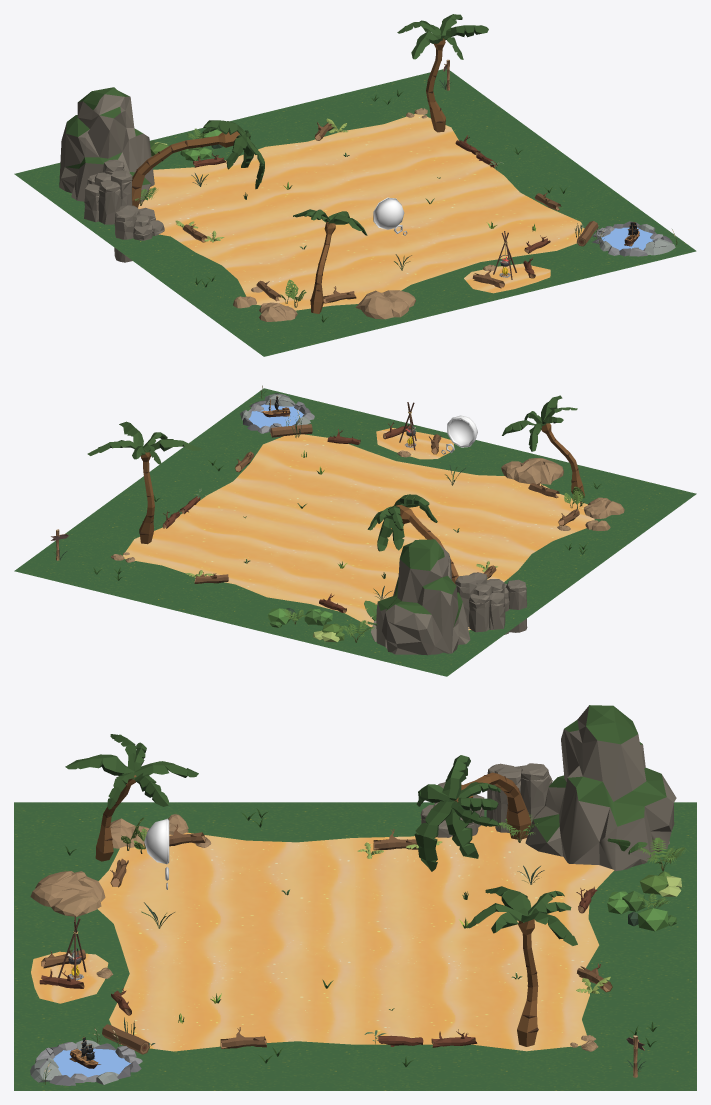
File: Environment.glb
The picture shows the model from 3 angles, top to bottom: view 1: azimuth 30°, elevation 25°; view 2: azimuth 150°, elevation 25°; view 3: azimuth 270°, elevation 25°; orthographic projection. The views are drawn at different scales.
Parts seen in each view (by area): view 1: FloorBaseSand_01, Gras, RockBig_07, PalmTree_01, PalmTree_02, RockPillars_01, Pond_01, RockPillars_01.001, PalmTree_02.001, SandPatchBig_01, Think Bubble, SandPatchMedium_01; view 2: FloorBaseSand_01, Gras, RockBig_07, RockPillars_01, PalmTree_02, PalmTree_01, Pond_01, PalmTree_02.001, SandPatchBig_01, Think Bubble, RockPillars_01.001, SandPatchMedium_01; view 3: FloorBaseSand_01, Gras, RockBig_07, PalmTree_01, PalmTree_02, PalmTree_02.001, Pond_01, SandPatchBig_01, RockPillars_01, Think Bubble, Bush_02, Bush_03 (+4 smaller).
Boxes of the visible parts, x1,y1,x2,y2 form: FloorBaseSand_01: [138, 113, 584, 310]; Gras: [14, 68, 696, 356]; RockBig_07: [59, 87, 154, 203]; PalmTree_01: [132, 120, 264, 207]; PalmTree_02: [397, 14, 488, 132]; RockPillars_01: [84, 159, 132, 224]; Pond_01: [592, 221, 675, 256]; RockPillars_01.001: [114, 205, 164, 262]; PalmTree_02.001: [293, 209, 367, 313]; SandPatchBig_01: [355, 290, 415, 319]; Think Bubble: [373, 197, 407, 235]; SandPatchMedium_01: [259, 302, 297, 321]; FloorBaseSand_01: [123, 428, 594, 630]; Gras: [14, 388, 696, 676]; RockBig_07: [371, 539, 470, 655]; RockPillars_01: [455, 572, 505, 632]; PalmTree_02: [87, 421, 202, 544]; PalmTree_01: [367, 494, 458, 584]; Pond_01: [240, 393, 314, 433]; PalmTree_02.001: [502, 395, 584, 496]; SandPatchBig_01: [501, 458, 563, 484]; Think Bubble: [441, 415, 477, 454]; RockPillars_01.001: [504, 579, 527, 634]; SandPatchMedium_01: [584, 497, 624, 518]; FloorBaseSand_01: [31, 825, 614, 1051]; Gras: [14, 802, 696, 1090]; RockBig_07: [525, 705, 676, 871]; PalmTree_01: [414, 755, 531, 871]; PalmTree_02: [467, 886, 577, 1046]; PalmTree_02.001: [65, 734, 198, 861]; Pond_01: [30, 1040, 142, 1085]; SandPatchBig_01: [30, 871, 105, 916]; RockPillars_01: [486, 763, 552, 832]; Think Bubble: [144, 818, 169, 889]; Bush_02: [639, 871, 681, 896]; Bush_03: [628, 907, 676, 931].
Size of what is drawn, in the model's own units: 32 by 9.15 by 32.
Materials: 4 (4 with a texture image).
